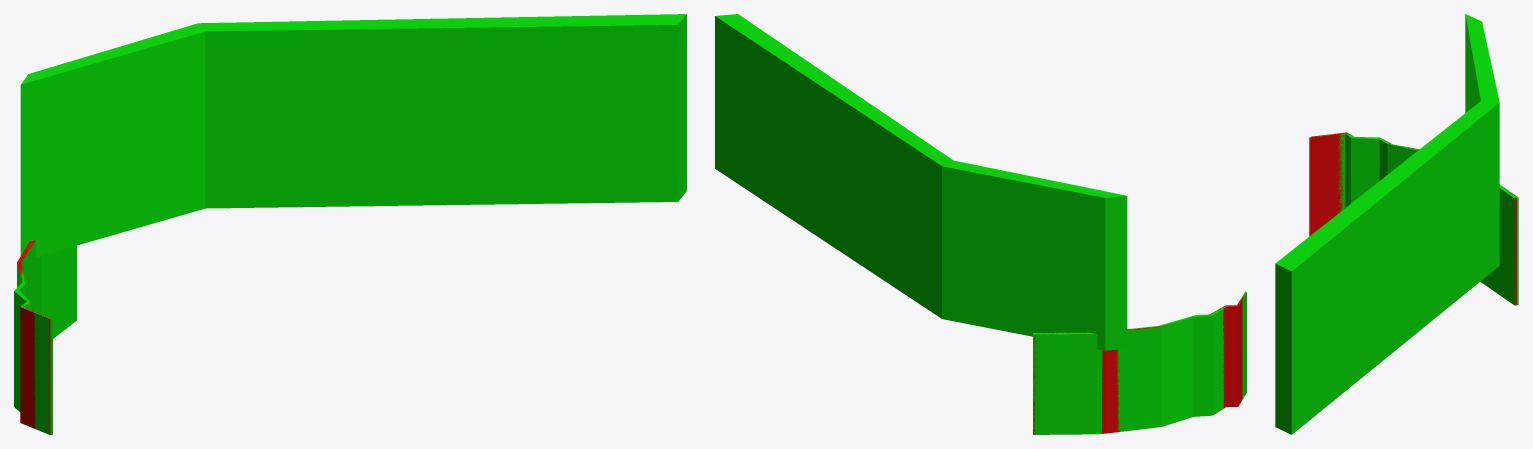
The model's file is InvisibleWall_015.fbx.
3 views of the same model, side by side, from view 1: azimuth 30°, elevation 25°; view 2: azimuth 150°, elevation 25°; view 3: azimuth 270°, elevation 25° (orthographic). The views are drawn at different scales.
Parts seen in each view (by area): view 1: Designer142, Designer210, InvisibleWall_015_Phys; view 2: Designer142, Designer210, InvisibleWall_015_Phys; view 3: Designer142, Designer210, InvisibleWall_015_Phys.
Boxes of the visible parts, left/top/right/bottom form: Designer142: left=20, top=14, right=686, bottom=257; Designer210: left=14, top=240, right=76, bottom=434; InvisibleWall_015_Phys: left=17, top=240, right=51, bottom=434; Designer142: left=715, top=14, right=1127, bottom=350; Designer210: left=1033, top=291, right=1246, bottom=434; InvisibleWall_015_Phys: left=1033, top=293, right=1246, bottom=434; Designer142: left=1275, top=14, right=1499, bottom=434; Designer210: left=1310, top=132, right=1518, bottom=305; InvisibleWall_015_Phys: left=1309, top=132, right=1517, bottom=305.
Bounding box in the file's own units: 7664 × 3172 × 2752.
